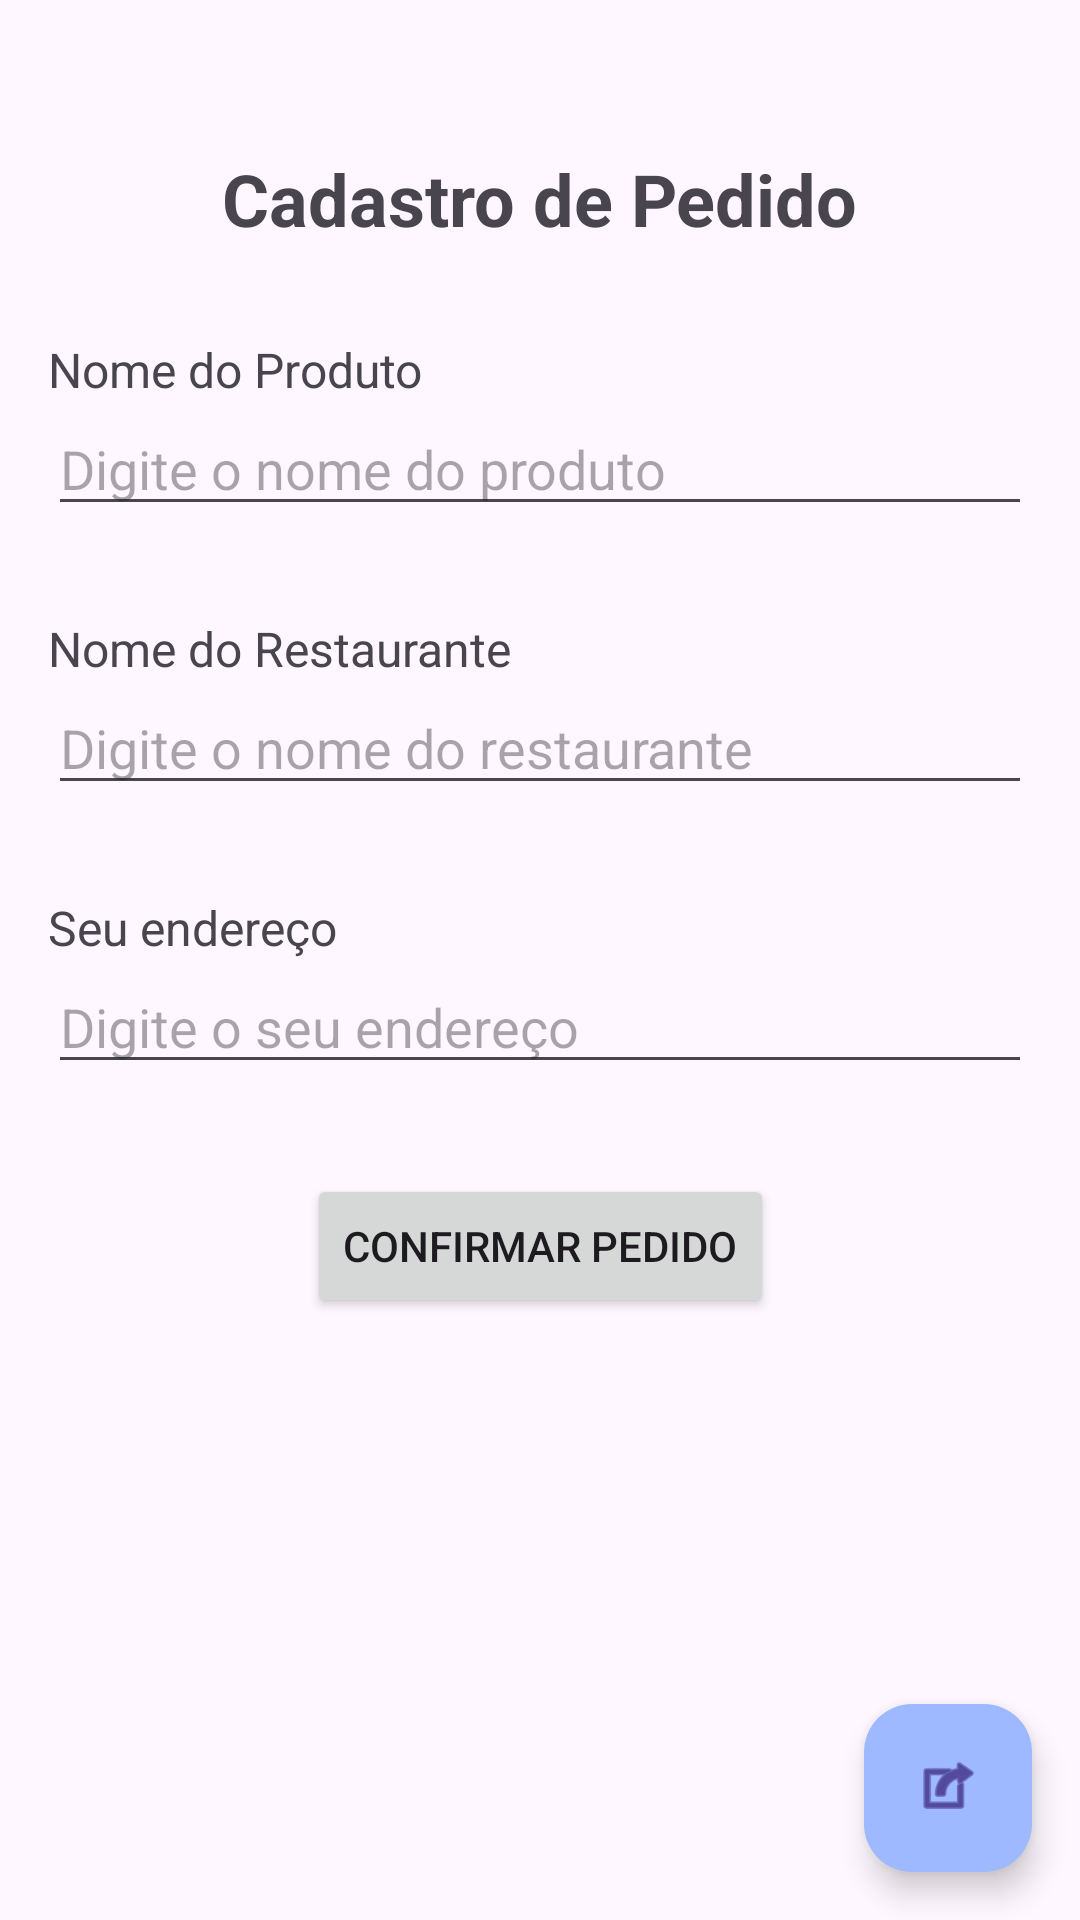

Icon click points for this 1080px×1920px phone screenshot, format [x,y]:
set as: [948,1788]
